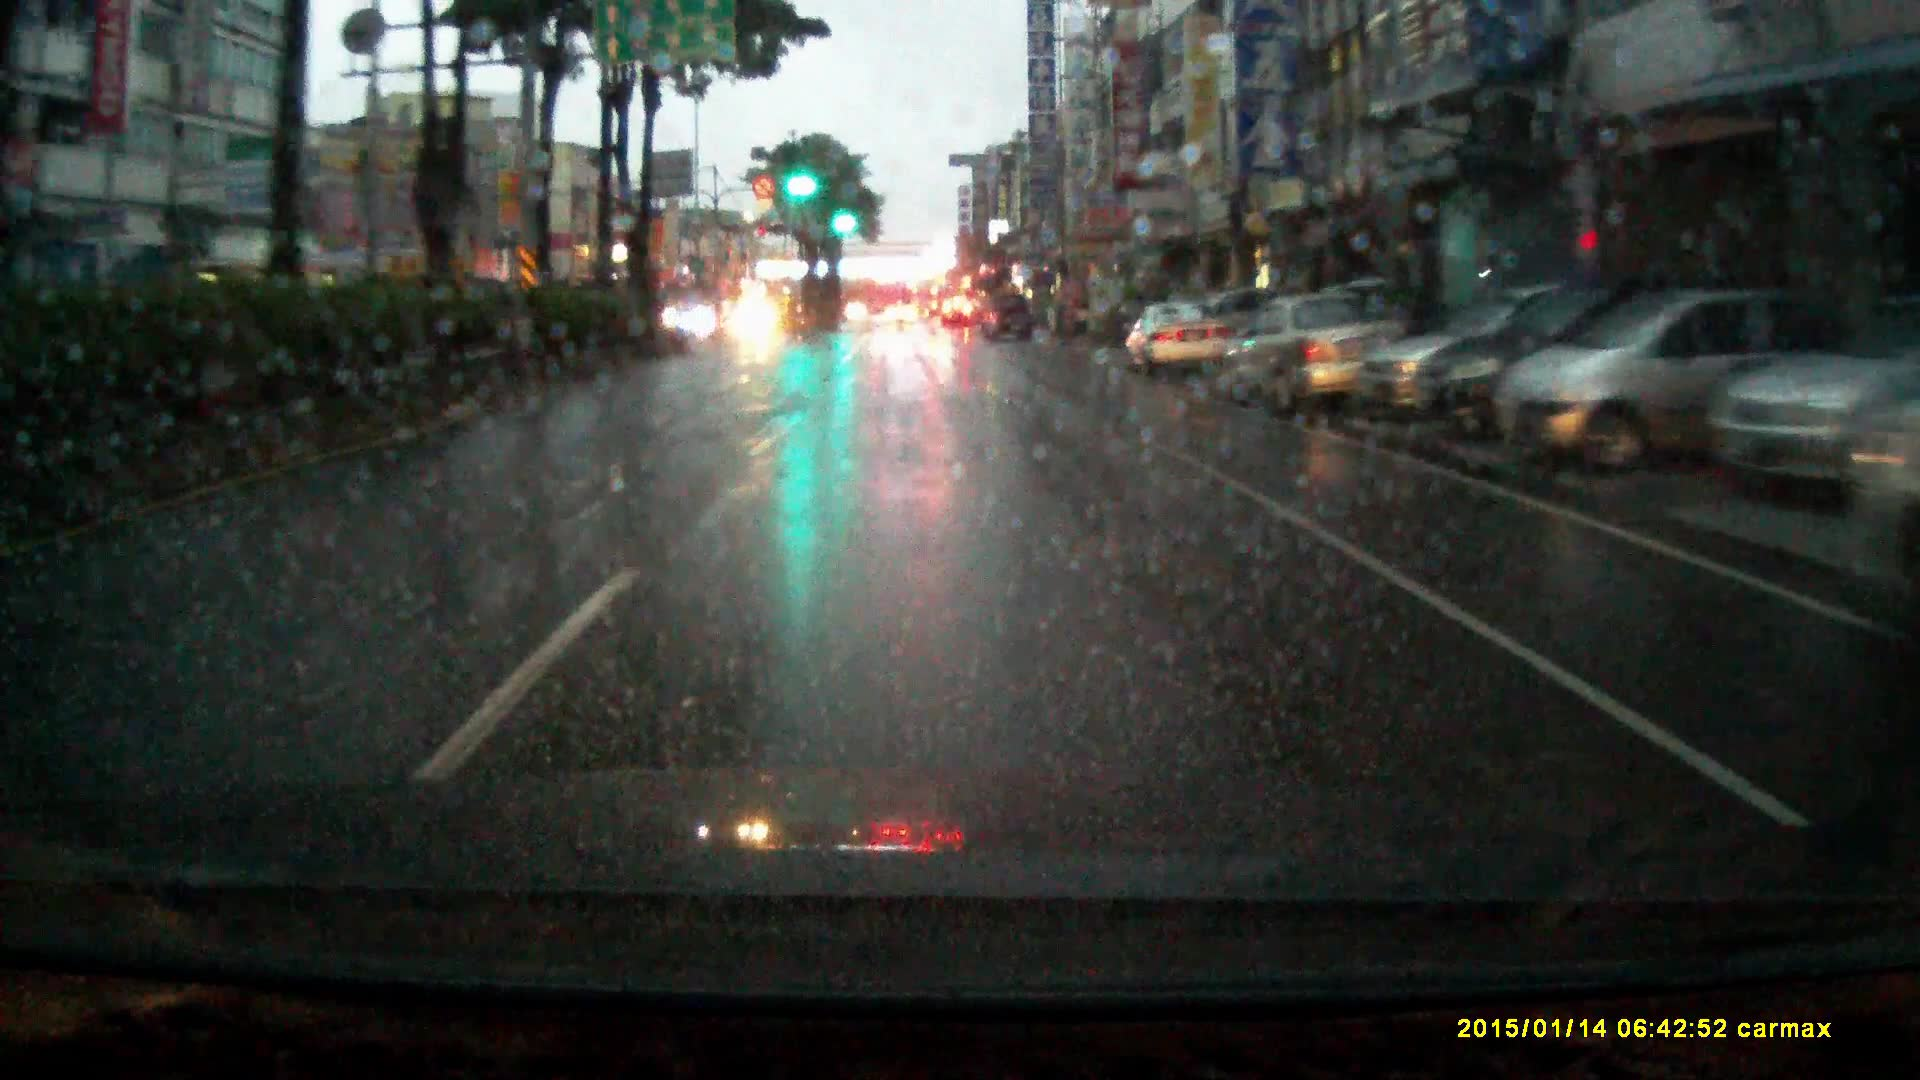vehicle: (1503, 293, 1840, 477), (1705, 314, 1920, 496), (1221, 287, 1414, 427), (1126, 302, 1225, 388), (981, 291, 1033, 343), (729, 301, 783, 348), (914, 276, 940, 318), (942, 297, 975, 328), (886, 303, 918, 324)
